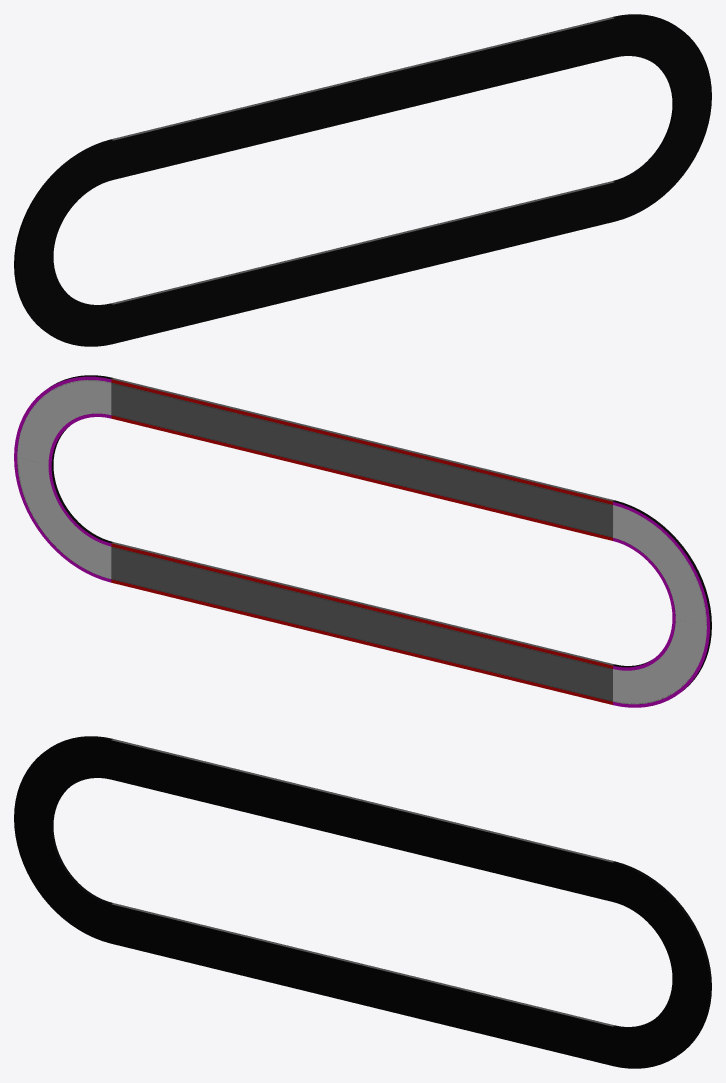
The model's file is oval2.dae.
The picture shows the model from 3 angles, top to bottom: view 1: azimuth 30°, elevation 25°; view 2: azimuth 150°, elevation 25°; view 3: azimuth 330°, elevation 25°; orthographic projection.
Parts seen in each view (by area): view 1: Plane (×2), Plane.010, Plane.008, Plane.007, Plane.009, Plane.016, Plane.012, Plane.001, Plane.004, Plane.013, Plane.018, Plane.014 (+7 smaller); view 2: Plane (×2), Plane.010, Plane.008, Plane.007, Plane.009, Plane.016, Plane.012, Plane.004, Plane.001, Plane.013, Plane.018, Plane.014 (+7 smaller); view 3: Plane.007, Plane (×2), Plane.009, Plane.010, Plane.008, Plane.013, Plane.017, Plane.004, Plane.005, Plane.001, Plane.016, Plane.015 (+7 smaller).
Boxes of the visible parts, box(x1,y1,x2,y2) form: Plane (×2): box(111, 108, 238, 179); Plane.010: box(14, 139, 112, 265); Plane.008: box(613, 96, 711, 221); Plane.007: box(613, 14, 711, 105); Plane.009: box(14, 257, 112, 346); Plane.016: box(425, 211, 489, 267); Plane.012: box(174, 273, 238, 328); Plane.001: box(237, 93, 301, 149); Plane.004: box(425, 47, 489, 103); Plane.013: box(237, 257, 301, 313); Plane.018: box(550, 181, 614, 236); Plane.014: box(299, 242, 363, 297); Plane (×2): box(487, 469, 614, 540); Plane.010: box(613, 500, 711, 626); Plane.008: box(14, 457, 112, 582); Plane.007: box(14, 375, 112, 466); Plane.009: box(613, 618, 711, 707); Plane.016: box(236, 572, 300, 628); Plane.012: box(487, 634, 551, 689); Plane.004: box(236, 408, 300, 464); Plane.001: box(424, 454, 488, 510); Plane.013: box(424, 618, 488, 674); Plane.018: box(111, 542, 175, 597); Plane.014: box(362, 603, 426, 658); Plane.007: box(613, 861, 711, 987); Plane (×2): box(111, 739, 237, 809); Plane.009: box(14, 818, 112, 943); Plane.010: box(14, 736, 112, 827); Plane.008: box(613, 979, 711, 1068); Plane.013: box(236, 933, 300, 989); Plane.017: box(487, 995, 551, 1050); Plane.004: box(424, 815, 488, 871); Plane.005: box(487, 830, 551, 886); Plane.001: box(236, 769, 300, 825); Plane.016: box(424, 979, 488, 1035); Plane.015: box(362, 964, 426, 1019).
Size of the model in its own units: 444 by 2.1 by 124.
2 materials, 2 textured.
